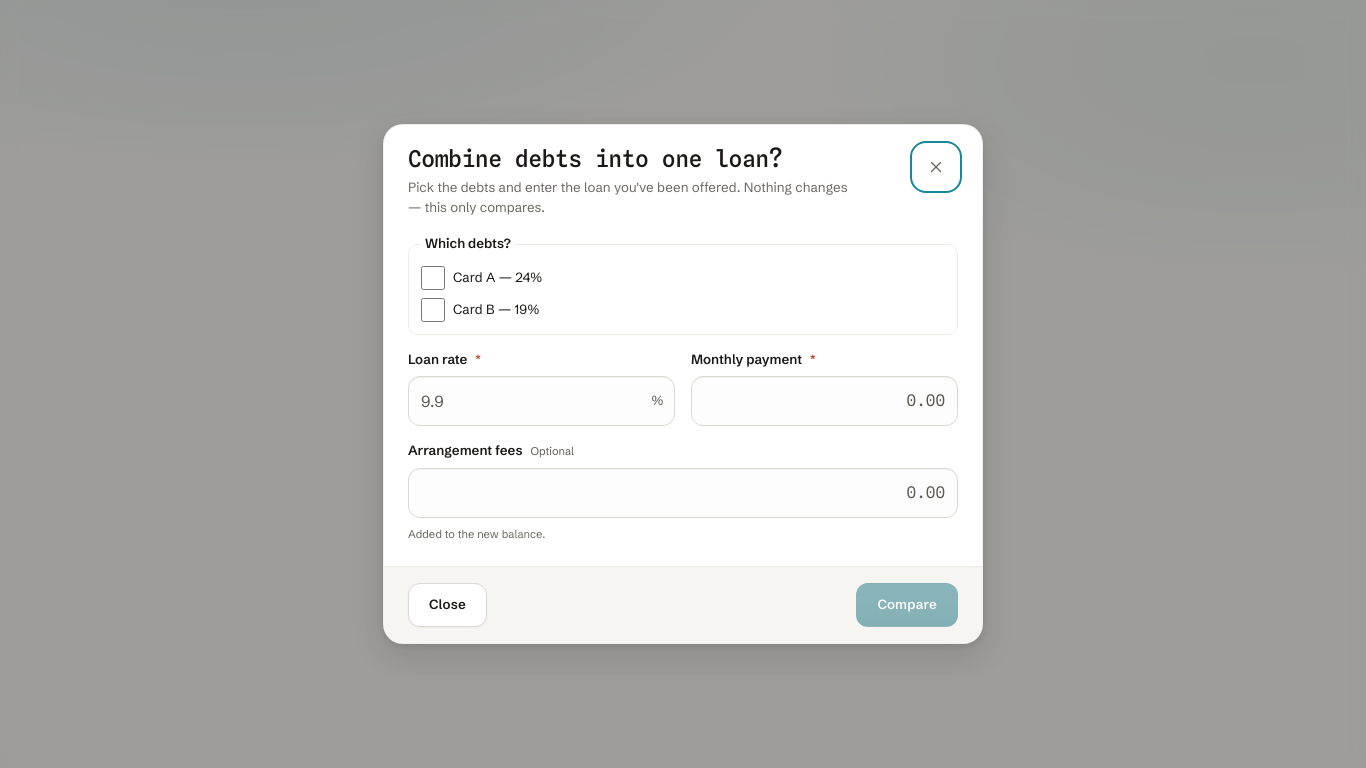
Test: ConsolidationModal › names the trap when a lower payment costs more overall
Click the checkbox labelled "Card A — 24%".
click(433, 278)  # box 421,266 -> 445,290
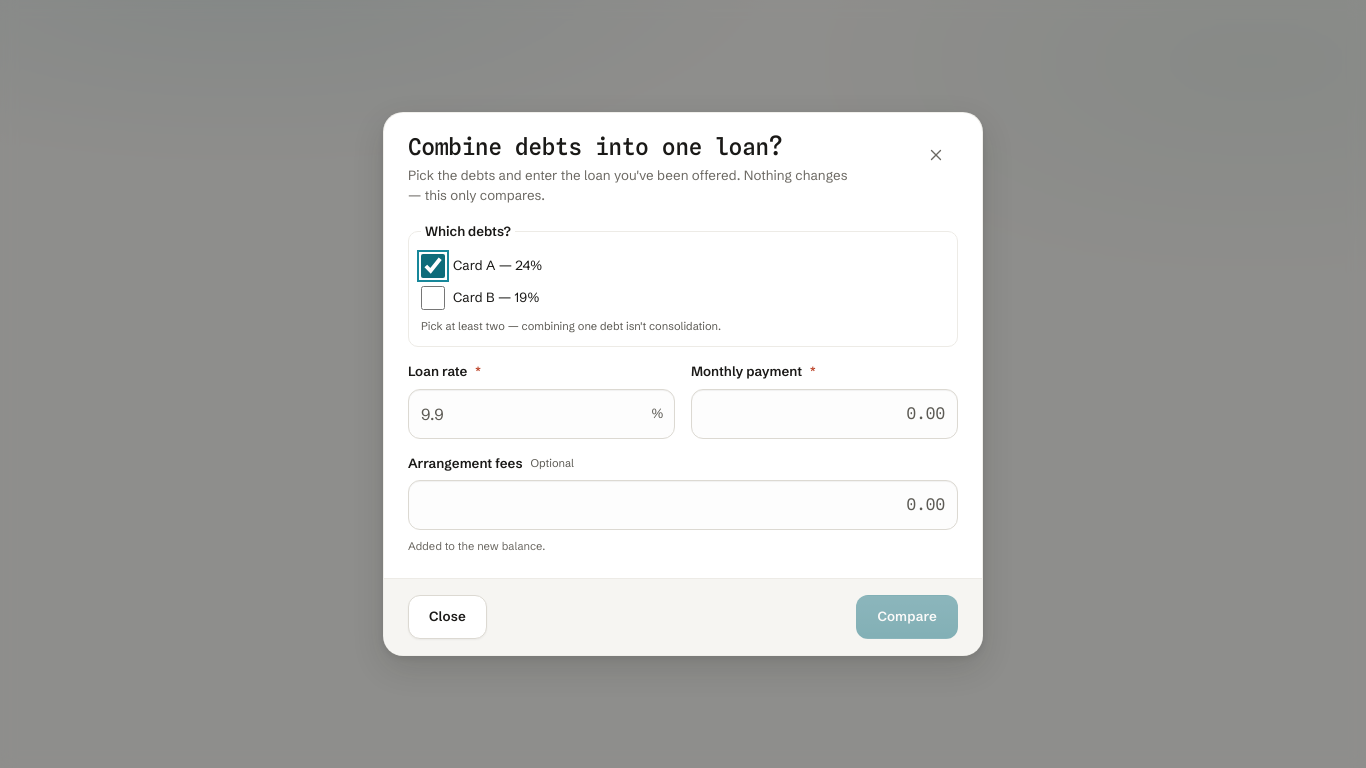
Click the checkbox labelled "Card B — 19%".
click(433, 298)  # box 421,286 -> 445,310
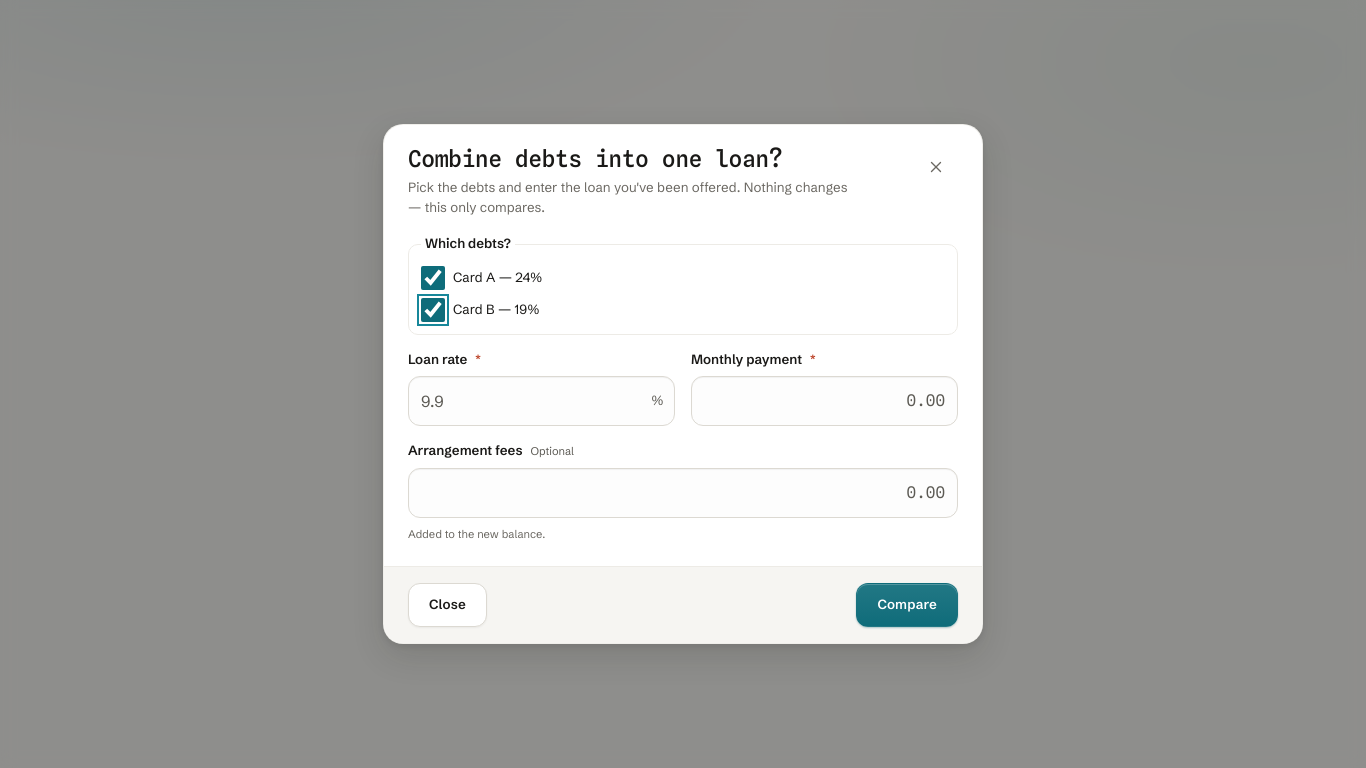
Type "11" into the field labelled "Loan rate *".
click(542, 401); type("11")  # box 408,376 -> 675,426
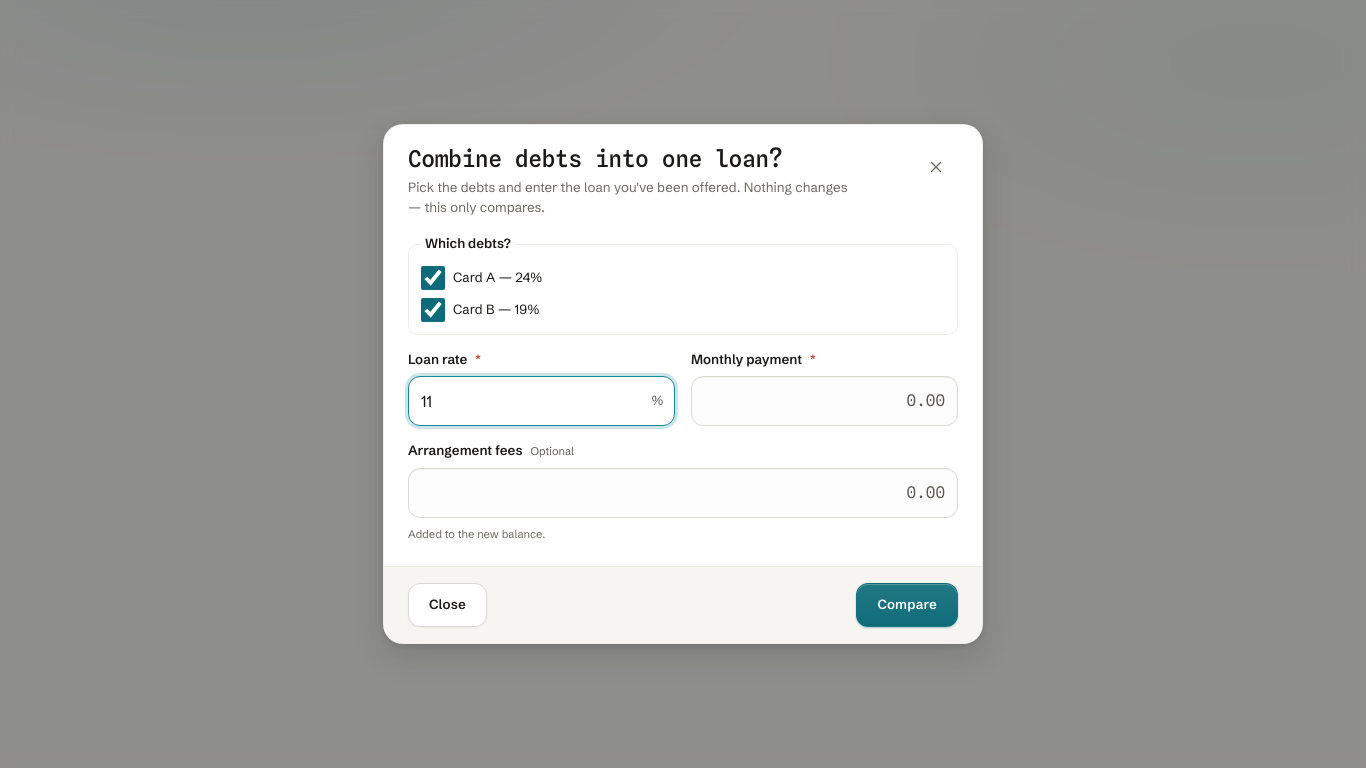
Type "220" into the field labelled "Monthly payment *".
click(824, 401); type("220")  # box 691,376 -> 958,426
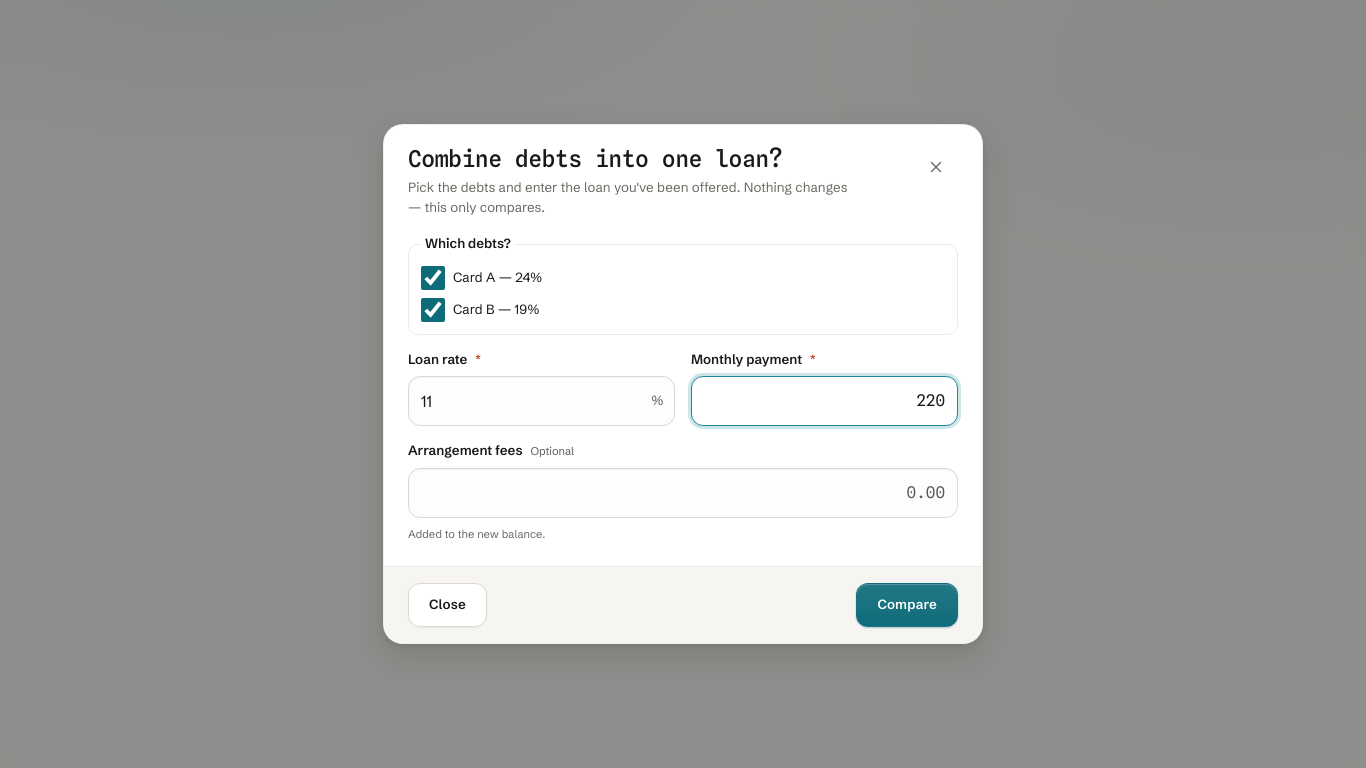
Click the button "Compare".
click(907, 605)  # box 856,583 -> 958,627
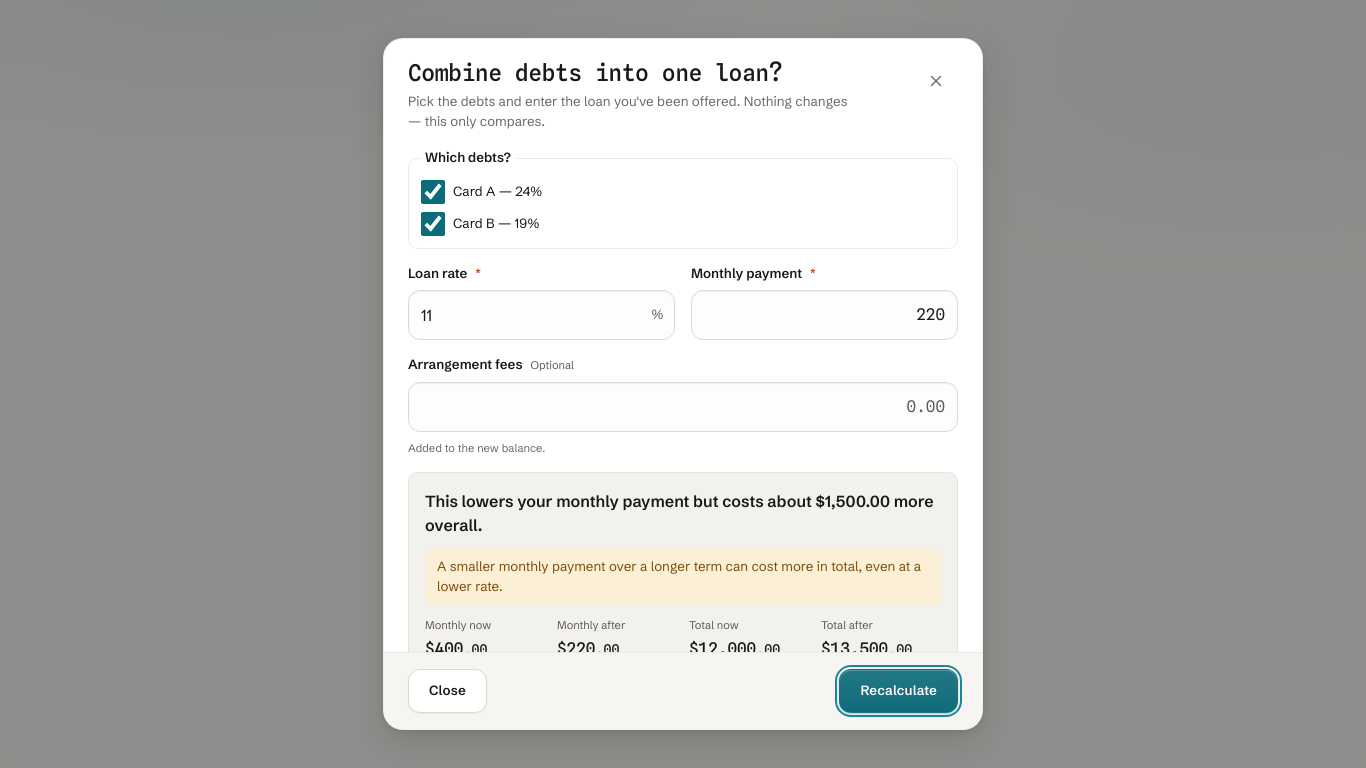
Result: the text "smaller monthly payment over a longer term can cost more" is shown at 437,558 -> 921,594
